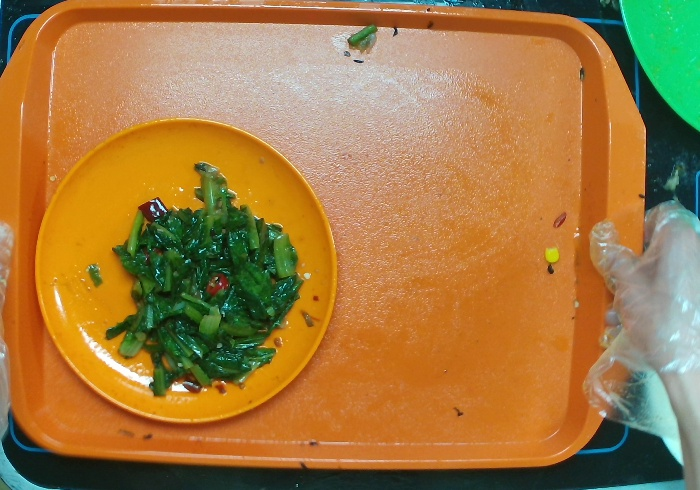HZYJPL-Ju_Huang_Yuan_Pan: (25, 110, 357, 436)
